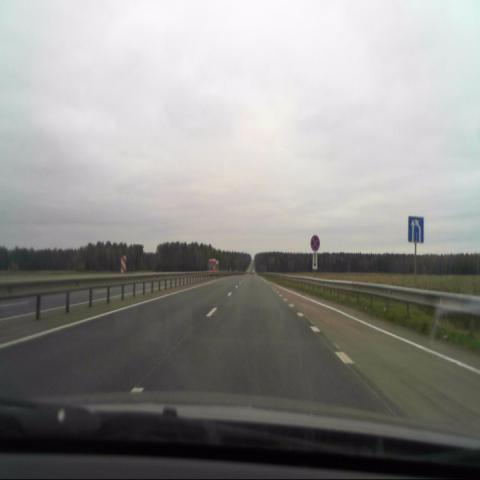5_15_5: (408, 216, 424, 243)
